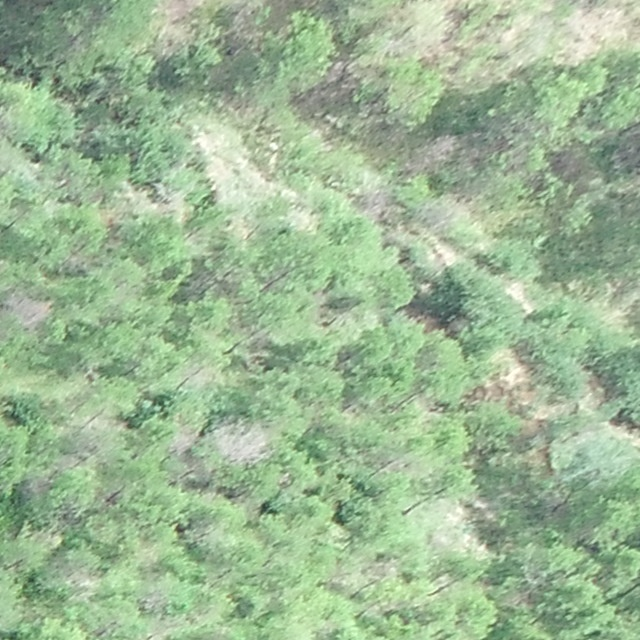unhealthy: (215, 418, 272, 465), (3, 290, 56, 329), (409, 133, 459, 173), (357, 185, 398, 223), (63, 564, 100, 594), (552, 148, 586, 179), (167, 426, 200, 457), (141, 588, 169, 612)
